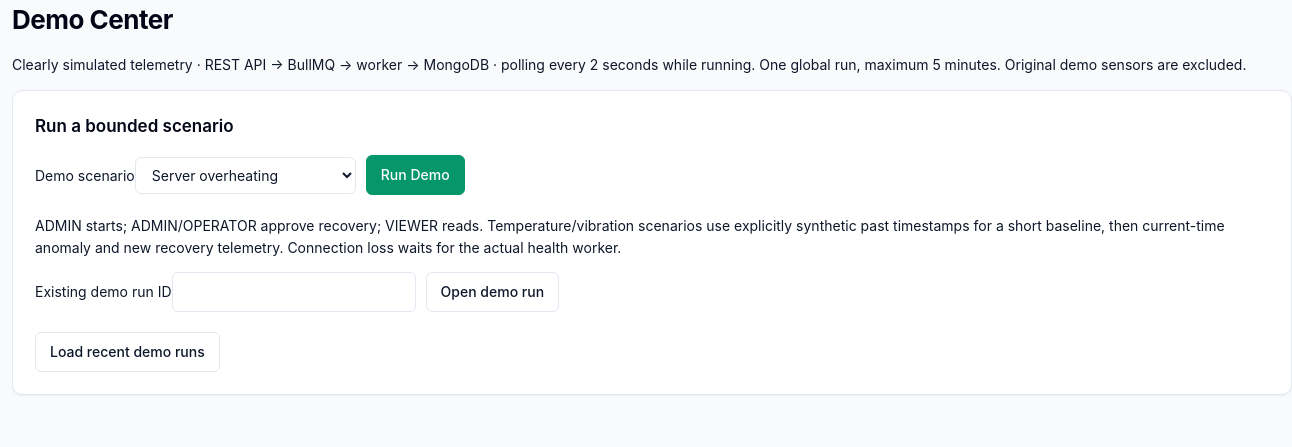
incident intelligence and simulation UI › demo queue error is visible and never replaced by recovery success
The width and height of the screenshot is (1292, 447).
Click the button "Run Demo" at [415, 175], box top-left (366, 155), bottom-right (465, 195)
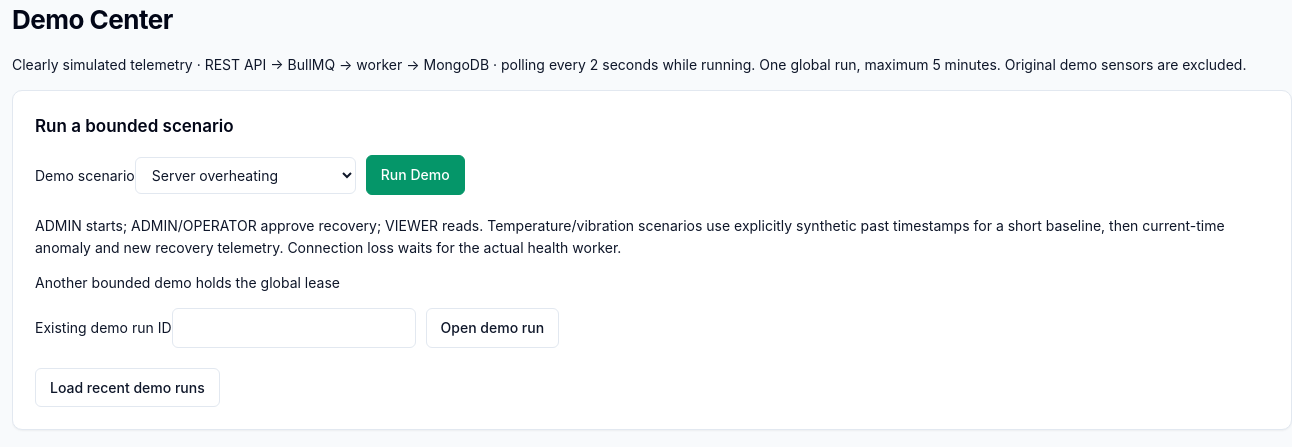
Expected: the text "Another bounded demo holds the global lease" is shown, top-left (35, 274), bottom-right (340, 291)
